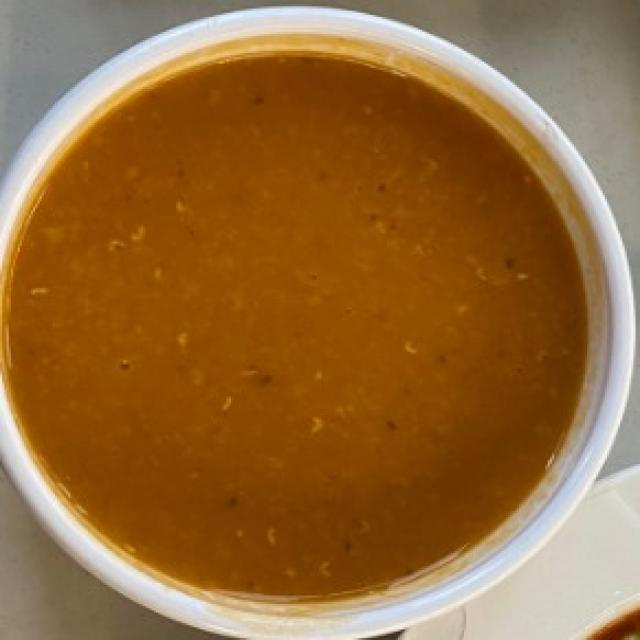corba: (0, 2, 638, 638)
